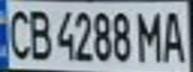2: (72, 7, 93, 62)
4: (51, 7, 75, 62)
8: (109, 8, 136, 63), (90, 7, 115, 63)
A: (157, 7, 190, 63)
B: (24, 6, 54, 61)
C: (0, 5, 33, 62)
M: (133, 7, 166, 63)
